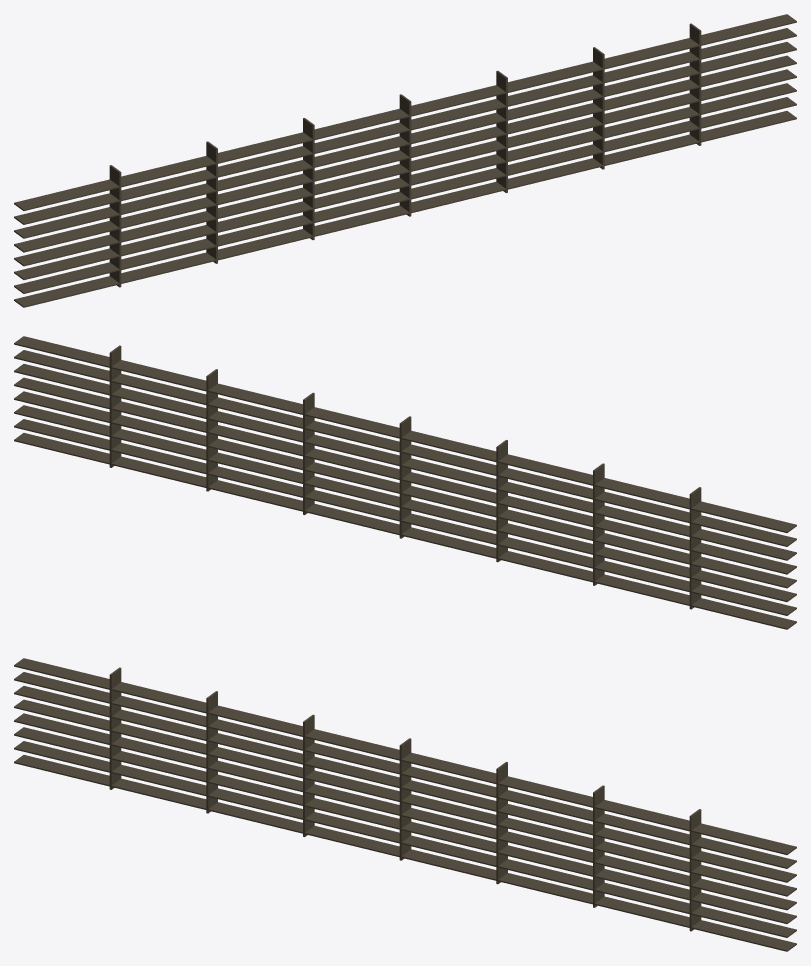
Rendered from ShelfModuleStart.glb.
3 views of the same model, one above another, from view 1: azimuth 30°, elevation 25°; view 2: azimuth 150°, elevation 25°; view 3: azimuth 330°, elevation 25° (orthographic).
Parts seen in each view (by area): view 1: ShelfModuleStart; view 2: ShelfModuleStart; view 3: ShelfModuleStart.
Part boxes in pixels (<box>): ShelfModuleStart: <box>14,14,796,307</box>; ShelfModuleStart: <box>14,336,796,629</box>; ShelfModuleStart: <box>14,658,796,951</box>.
Bounding box in the file's own units: 22.86 × 3.25 × 0.5.
